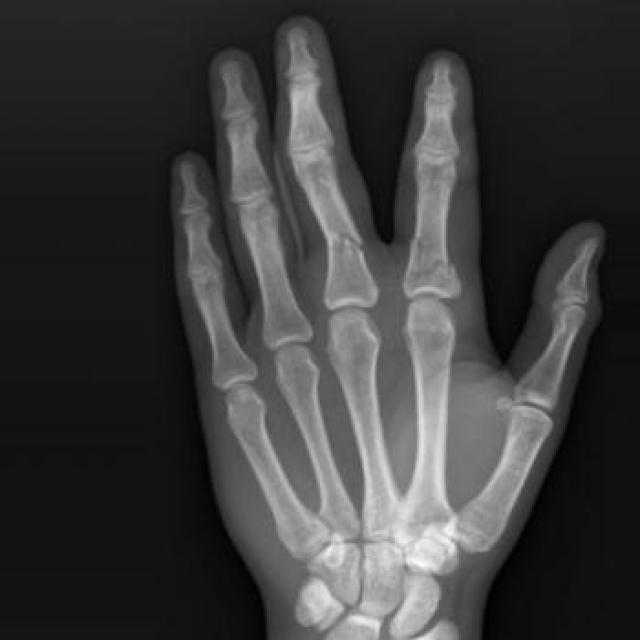Fracture: (314, 226, 378, 259)
